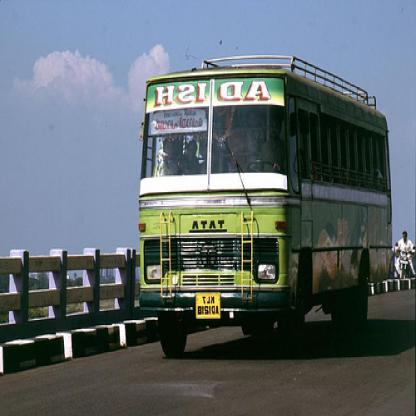bus: (140, 56, 395, 358)
motorbike: (398, 248, 416, 281)
person: (394, 230, 416, 280)
